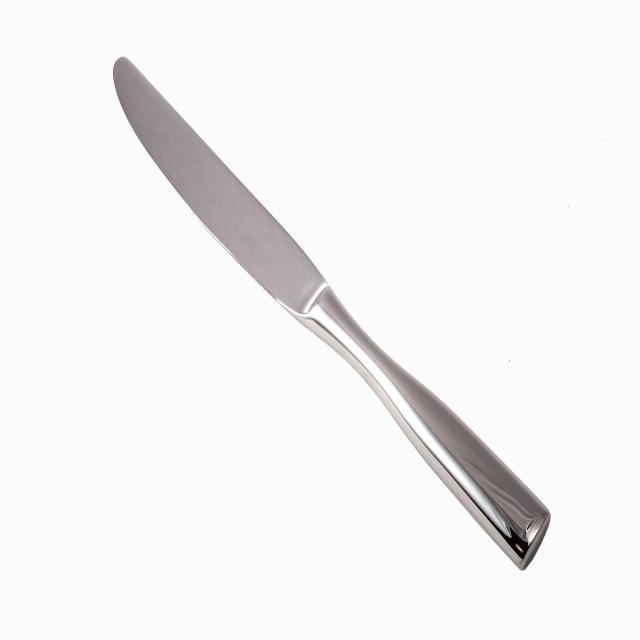Knife: (114, 58, 550, 568)
